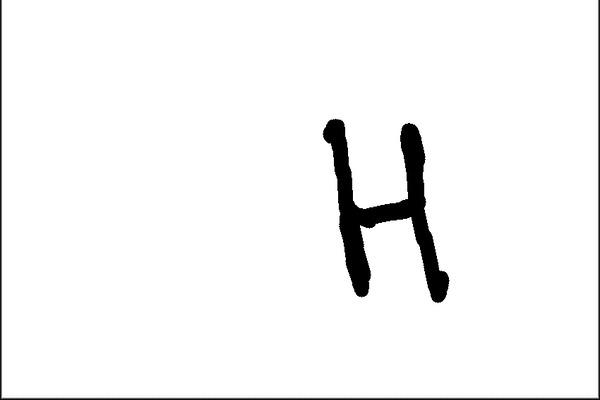H: (313, 108, 459, 305)
